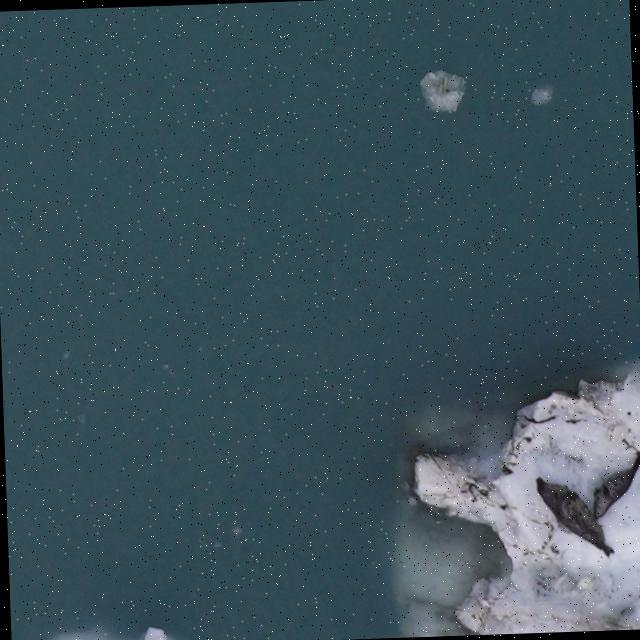seal: (533, 472, 619, 564), (586, 447, 640, 524)
